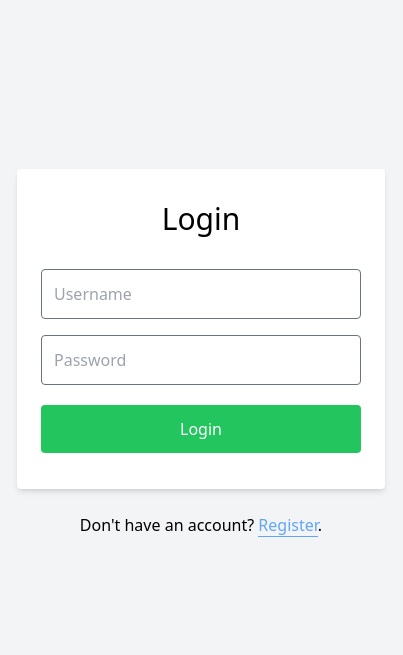
Test case: Navigation › Should navigate to the registration page
Find a link with an href attribute containing "register" and click it
Click the link "Register".
click(288, 526)  # box [258,514,318,537]
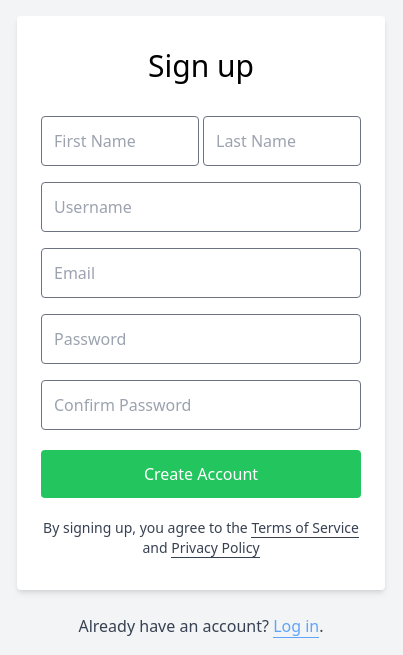
Expected: the heading "Sign up" is shown, [148,45,254,86]
